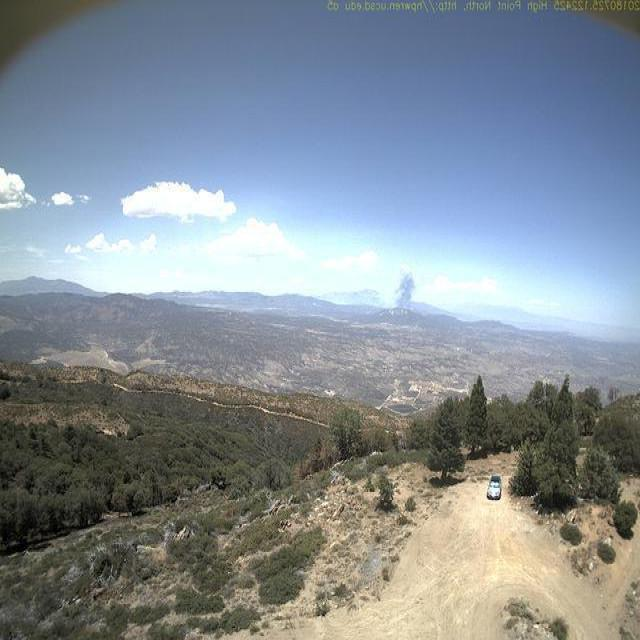Smoke: (391, 266, 421, 314)
